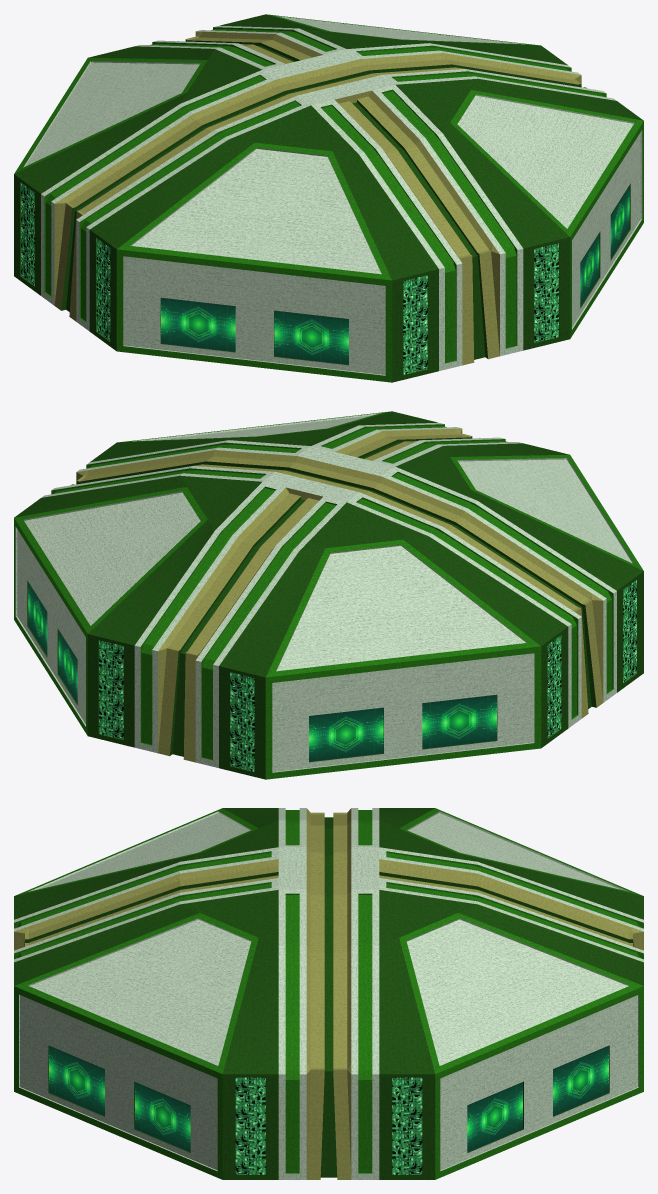
3 renders of one model, top to bottom at view 1: azimuth 30°, elevation 25°; view 2: azimuth 150°, elevation 25°; view 3: azimuth 270°, elevation 25°, orthographic. The views are drawn at different scales.
Visible parts, largest first — view 1: Material2 (×6); view 2: Material2 (×6); view 3: Material2 (×6).
Boxes of the visible parts, x1=… form: Material2 (×6): x1=14, y1=14, x2=643, y2=382; Material2 (×6): x1=14, y1=411, x2=643, y2=779; Material2 (×6): x1=14, y1=808, x2=643, y2=1179.
Size of the model in its own units: 1081 by 337 by 1081.
9 materials, 7 textured.
